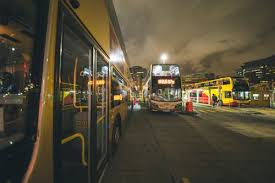bus: (1, 1, 134, 183), (182, 74, 252, 106), (141, 62, 184, 113)
